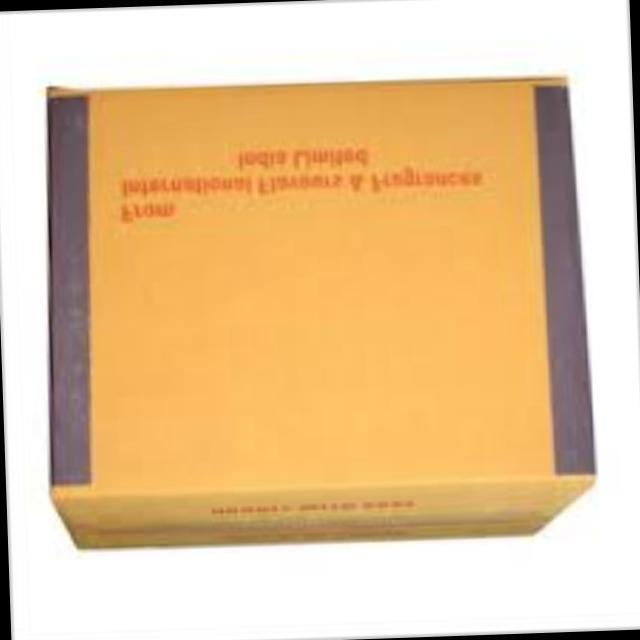cardboard paper: (45, 86, 589, 549)
